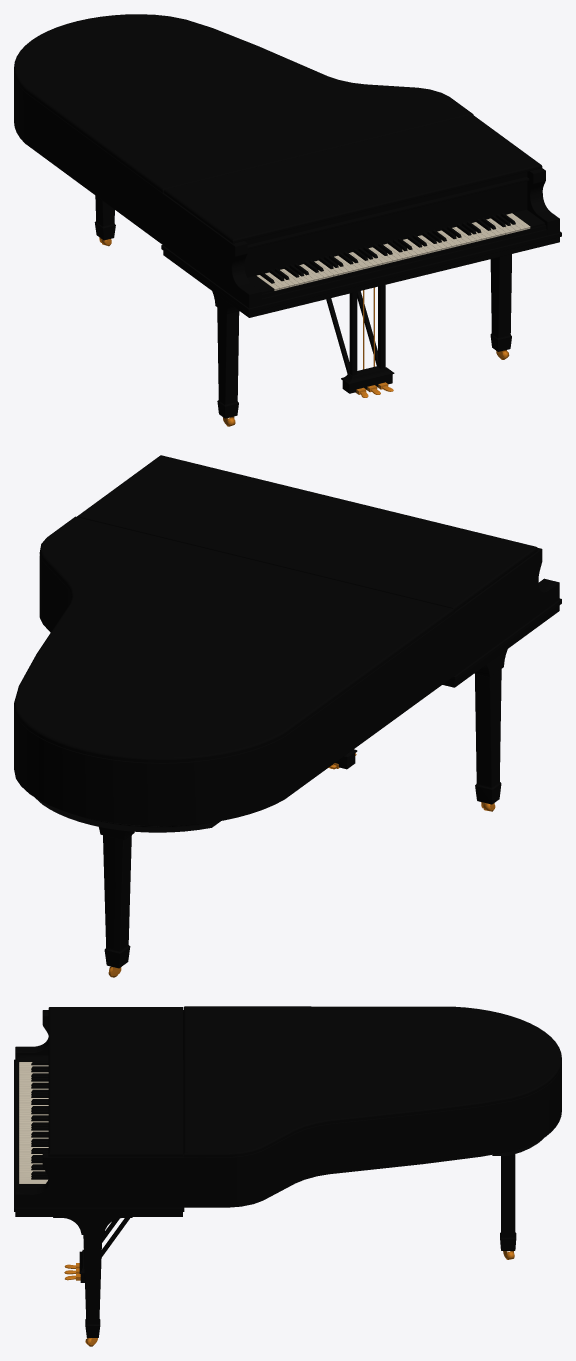
The model's file is GrandPiano_LOD0.fbx.
3 views of the same model, one above another, from view 1: azimuth 30°, elevation 25°; view 2: azimuth 150°, elevation 25°; view 3: azimuth 270°, elevation 25° (orthographic). The views are drawn at different scales.
Parts seen in each view (by area): view 1: GrandPiano_LOD0; view 2: GrandPiano_LOD0; view 3: GrandPiano_LOD0.
Part boxes in pixels (box(x1,y1,x2,y2)): GrandPiano_LOD0: box(14, 14, 561, 426); GrandPiano_LOD0: box(14, 455, 561, 977); GrandPiano_LOD0: box(14, 1006, 561, 1346).
Bounding box in the file's own units: 151 × 94.62 × 235.
